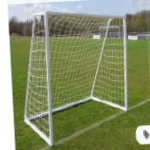goals: (23, 10, 129, 146)
